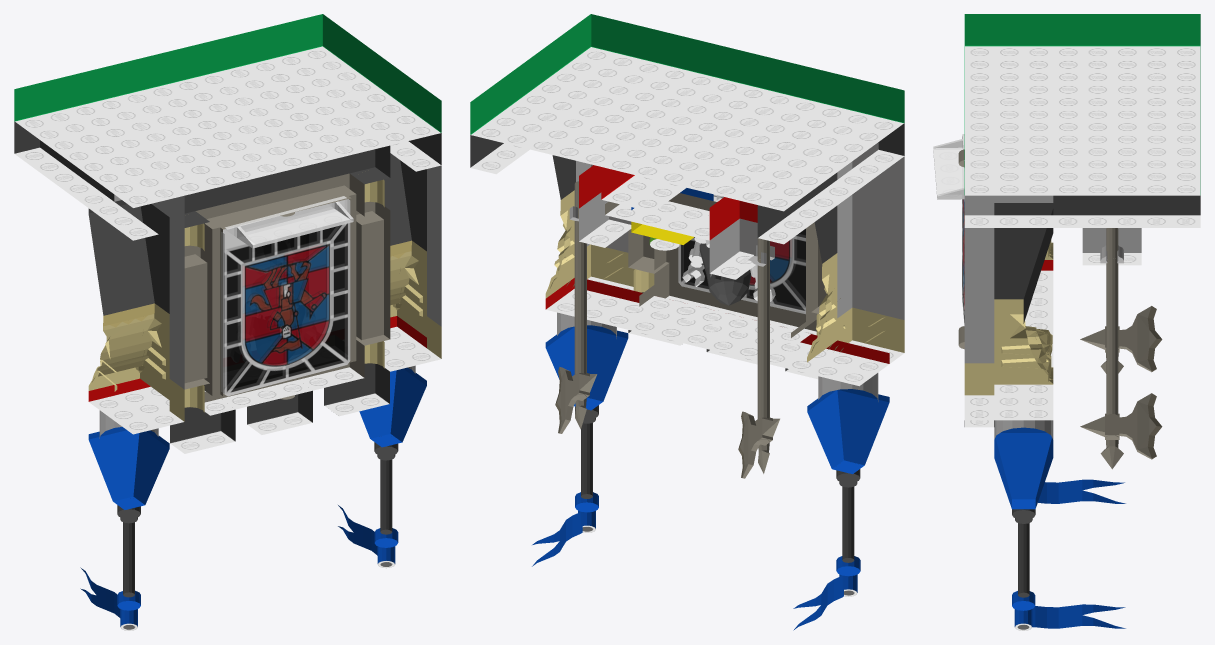
The picture shows the model from 3 angles, left to right: view 1: azimuth 30°, elevation 25°; view 2: azimuth 150°, elevation 25°; view 3: azimuth 270°, elevation 25°; orthographic projection. The views are drawn at different scales.
Visible parts, largest first — view 1: 006_OC6095-1_Part_1, 107_OC6095-1_Frame, 056_L_3010202_493, 114_OC6095-1_Lion_pillar_left, 045_OC6095-1_Top, 110_OC6095-1_Lion_pillar_left, 120_OC6095-1_Castlations, 051_OC6095-1_1_Edges, 135_L_449500_pole_Blue, 126_L_449500_pole_Blue, 129_L_449500_flag_Blue_135, 138_L_449500_flag_Blue_135; view 2: 006_OC6095-1_Part_1, 045_OC6095-1_Top, 114_OC6095-1_Lion_pillar_left, 107_OC6095-1_Frame, 051_OC6095-1_1_Edges, 110_OC6095-1_Lion_pillar_left, 097_L_612300, 098_OC6095-1_Axe_holder, 091_L_612300, 067_OC6095-1_3_Throne_bit, 056_L_3010202_493, 088_OC6095-1_Axe_holder (+6 smaller); view 3: 006_OC6095-1_Part_1, 110_OC6095-1_Lion_pillar_left, 045_OC6095-1_Top, 051_OC6095-1_1_Edges, 091_L_612300, 097_L_612300, 056_L_3010202_493, 088_OC6095-1_Axe_holder, 138_L_449500_flag_Blue_135, 129_L_449500_flag_Blue_135, 135_L_449500_pole_Blue.
Part boxes in pixels (bbox=[...]): 006_OC6095-1_Part_1: bbox=[14, 14, 441, 207]; 107_OC6095-1_Frame: bbox=[184, 145, 390, 415]; 056_L_3010202_493: bbox=[221, 196, 353, 396]; 114_OC6095-1_Lion_pillar_left: bbox=[88, 200, 184, 434]; 045_OC6095-1_Top: bbox=[88, 316, 426, 597]; 110_OC6095-1_Lion_pillar_left: bbox=[384, 153, 441, 371]; 120_OC6095-1_Castlations: bbox=[170, 363, 389, 453]; 051_OC6095-1_1_Edges: bbox=[14, 121, 441, 240]; 135_L_449500_pole_Blue: bbox=[374, 528, 398, 568]; 126_L_449500_pole_Blue: bbox=[117, 590, 140, 630]; 129_L_449500_flag_Blue_135: bbox=[80, 567, 120, 617]; 138_L_449500_flag_Blue_135: bbox=[338, 505, 377, 555]; 006_OC6095-1_Part_1: bbox=[470, 14, 904, 211]; 045_OC6095-1_Top: bbox=[545, 278, 889, 562]; 114_OC6095-1_Lion_pillar_left: bbox=[807, 148, 904, 363]; 107_OC6095-1_Frame: bbox=[628, 222, 826, 344]; 051_OC6095-1_1_Edges: bbox=[470, 123, 904, 244]; 110_OC6095-1_Lion_pillar_left: bbox=[545, 155, 634, 298]; 097_L_612300: bbox=[738, 238, 779, 478]; 098_OC6095-1_Axe_holder: bbox=[709, 197, 774, 279]; 091_L_612300: bbox=[555, 181, 597, 433]; 067_OC6095-1_3_Throne_bit: bbox=[605, 188, 716, 244]; 056_L_3010202_493: bbox=[678, 228, 805, 314]; 088_OC6095-1_Axe_holder: bbox=[569, 165, 631, 247]; 006_OC6095-1_Part_1: bbox=[964, 14, 1200, 195]; 110_OC6095-1_Lion_pillar_left: bbox=[964, 203, 1053, 420]; 045_OC6095-1_Top: bbox=[994, 260, 1053, 597]; 051_OC6095-1_1_Edges: bbox=[964, 195, 1200, 227]; 091_L_612300: bbox=[1080, 228, 1162, 469]; 097_L_612300: bbox=[1080, 306, 1162, 373]; 056_L_3010202_493: bbox=[933, 134, 964, 326]; 088_OC6095-1_Axe_holder: bbox=[1082, 228, 1141, 265]; 138_L_449500_flag_Blue_135: bbox=[1035, 604, 1125, 628]; 129_L_449500_flag_Blue_135: bbox=[1038, 479, 1125, 503]; 135_L_449500_pole_Blue: bbox=[1012, 591, 1035, 630].
Bounding box in the file's own units: 9.6 × 14.24 × 7.26.
Materials: 23 (7 with a texture image).
